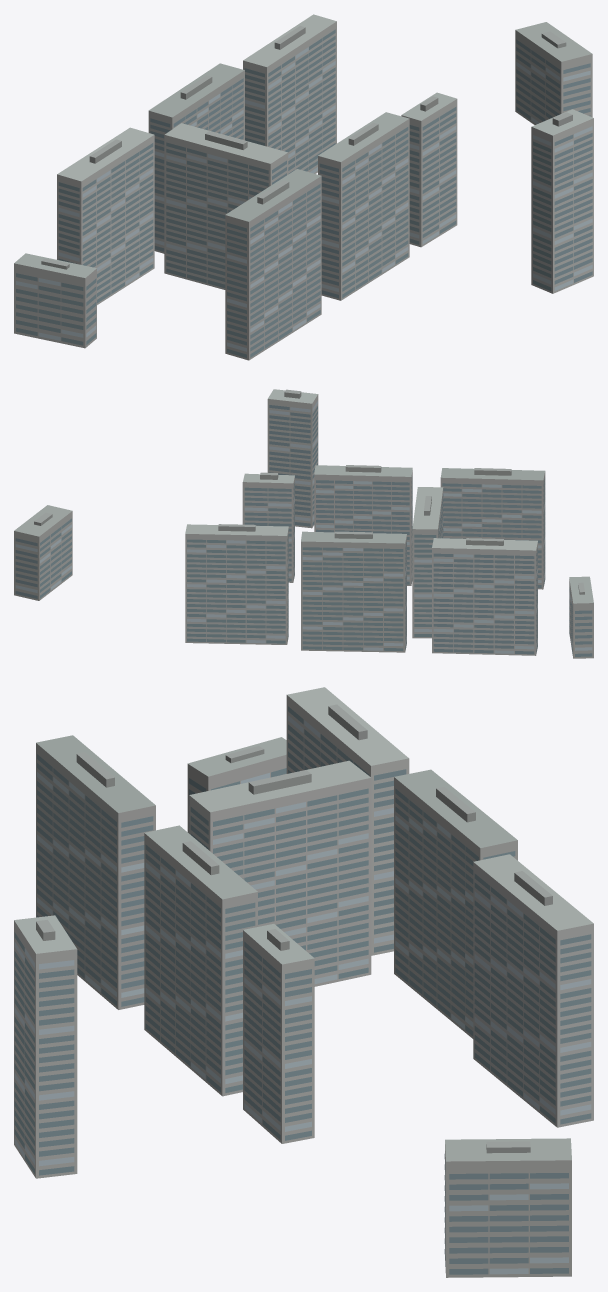
The model's file is apt-a15301105.glb.
3 views of the same model, one above another, from view 1: azimuth 30°, elevation 25°; view 2: azimuth 150°, elevation 25°; view 3: azimuth 270°, elevation 25° (orthographic). The views are drawn at different scales.
Visible parts, largest first — view 1: apt-a15301105; view 2: apt-a15301105; view 3: apt-a15301105.
Boxes of the visible parts, left/top/right/bottom form: apt-a15301105: left=14, top=14, right=593, bottom=360; apt-a15301105: left=14, top=389, right=593, bottom=658; apt-a15301105: left=14, top=687, right=593, bottom=1277.
Bounding box in the file's own units: 272 × 67 × 151.
